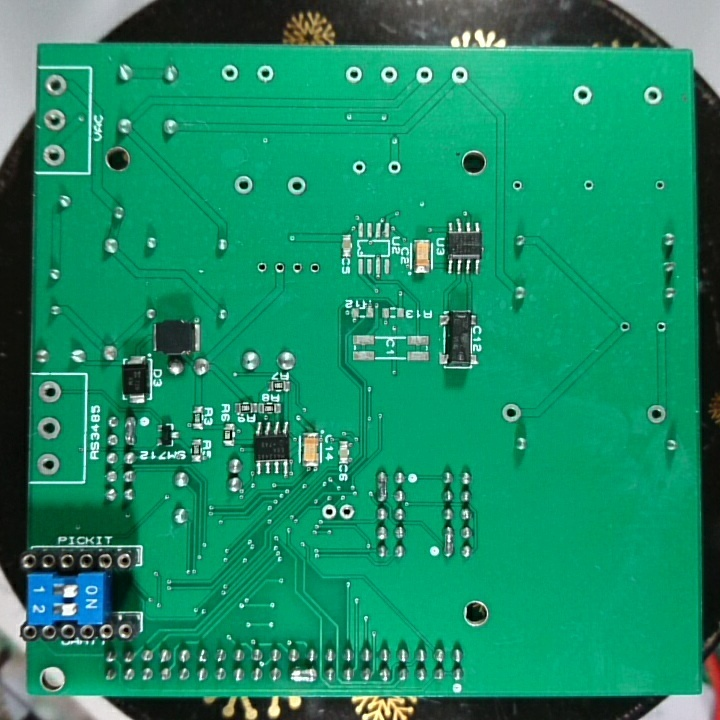F: (35, 414, 65, 444), (36, 378, 66, 406), (41, 105, 69, 134), (34, 450, 62, 478), (643, 400, 671, 427), (570, 81, 597, 108), (40, 141, 67, 168), (641, 82, 667, 110), (42, 74, 69, 100), (500, 399, 525, 427), (231, 172, 256, 199), (448, 62, 473, 88), (253, 62, 278, 88), (377, 63, 402, 88), (285, 173, 308, 200), (343, 62, 365, 88), (218, 60, 240, 86), (413, 63, 436, 87), (336, 499, 356, 526), (384, 156, 406, 178), (320, 501, 339, 526), (349, 156, 370, 178), (289, 257, 306, 282), (253, 258, 271, 280), (307, 257, 323, 280), (580, 175, 599, 194), (270, 259, 287, 280), (616, 318, 634, 336), (652, 178, 670, 196), (508, 176, 526, 194), (653, 318, 669, 338)
P: (287, 663, 319, 686), (373, 466, 391, 505), (120, 412, 138, 447), (441, 521, 456, 563)
